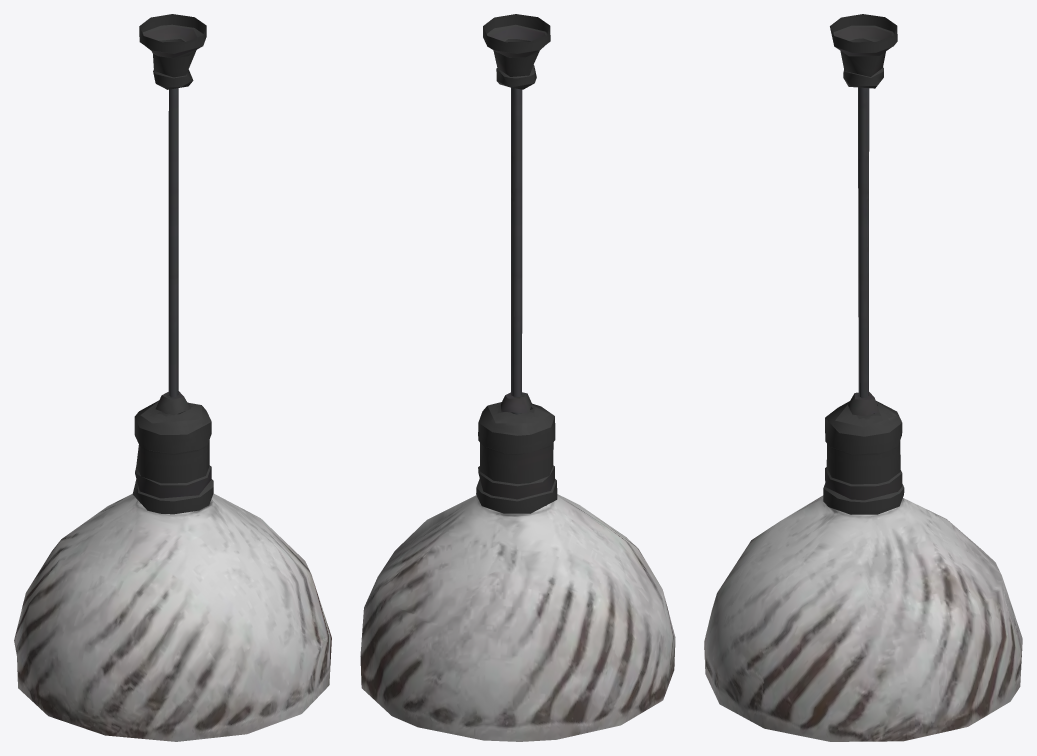
3 views of the same model, side by side, from view 1: azimuth 30°, elevation 25°; view 2: azimuth 150°, elevation 25°; view 3: azimuth 270°, elevation 25° (orthographic).
Visible parts, largest first — view 1: Bistro_Research_Interior_Paris_Ceiling_Light_04_2362; view 2: Bistro_Research_Interior_Paris_Ceiling_Light_04_2362; view 3: Bistro_Research_Interior_Paris_Ceiling_Light_04_2362.
Part boxes in pixels (<box>): Bistro_Research_Interior_Paris_Ceiling_Light_04_2362: <box>14,14,331,741</box>; Bistro_Research_Interior_Paris_Ceiling_Light_04_2362: <box>360,14,675,741</box>; Bistro_Research_Interior_Paris_Ceiling_Light_04_2362: <box>704,14,1022,741</box>.
Bounding box in the file's own units: 0.4398 × 0.9957 × 0.4427.
Materials: 1 (1 with a texture image).
